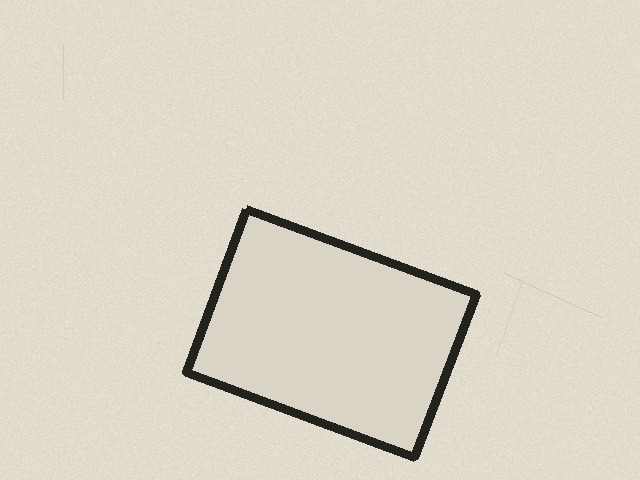parking_area: (186, 209, 476, 457)
